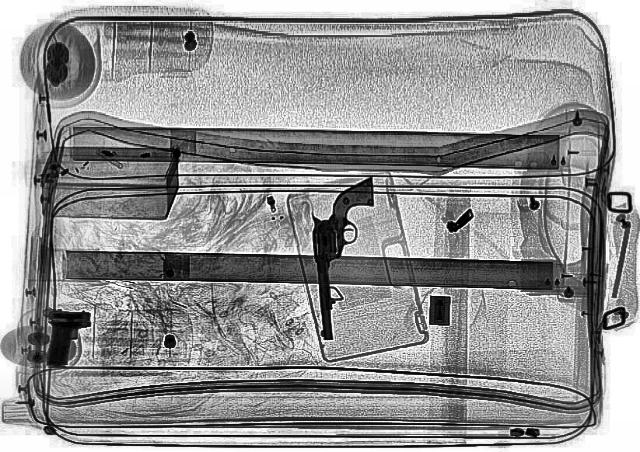Gun: (303, 179, 383, 345)
